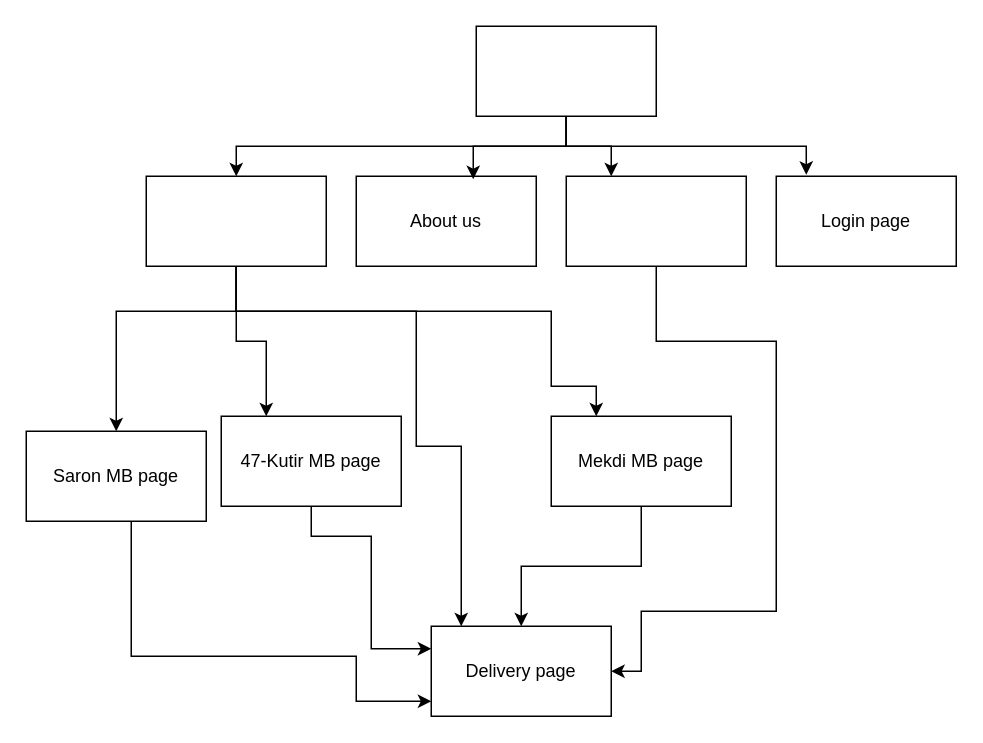
Image size: 983x743. Some labels were removed from this diagram. The centre of each missing label's shape, as x and y in pixels:
"Contact pge" belongs at point (655, 220).
"Home" belongs at point (565, 70).
"Home page" belongs at point (235, 220).
